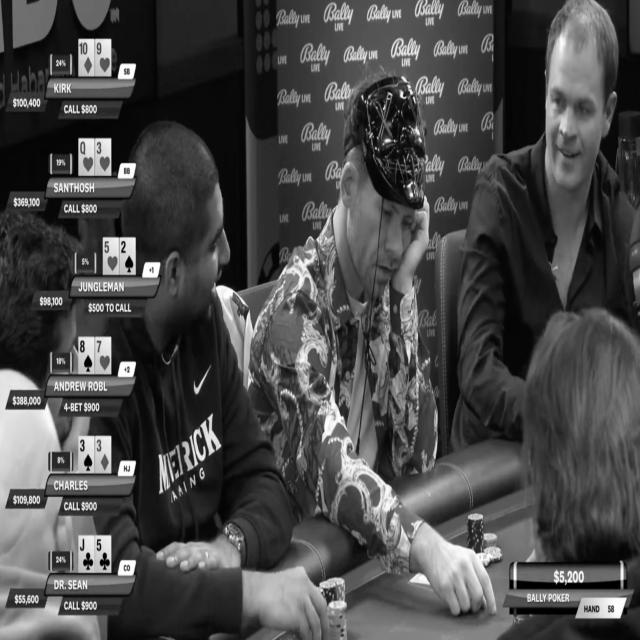10D: (78, 38, 94, 77)
2S: (119, 237, 137, 275)
3D: (95, 437, 112, 471)
3H: (95, 138, 112, 174)
3S: (78, 436, 94, 472)
5C: (95, 536, 112, 572)
5H: (103, 237, 119, 276)
7H: (97, 337, 111, 371)
8S: (78, 336, 94, 372)
9H: (94, 38, 112, 76)
JC: (78, 535, 94, 570)
QH: (78, 137, 95, 175)
